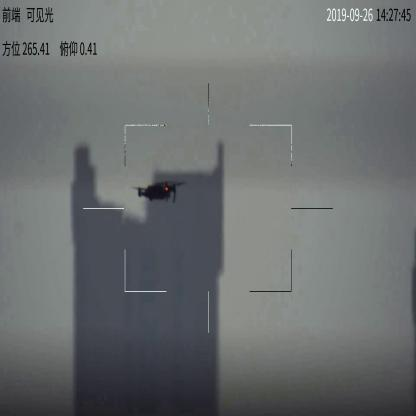uav: (128, 181, 180, 203)
